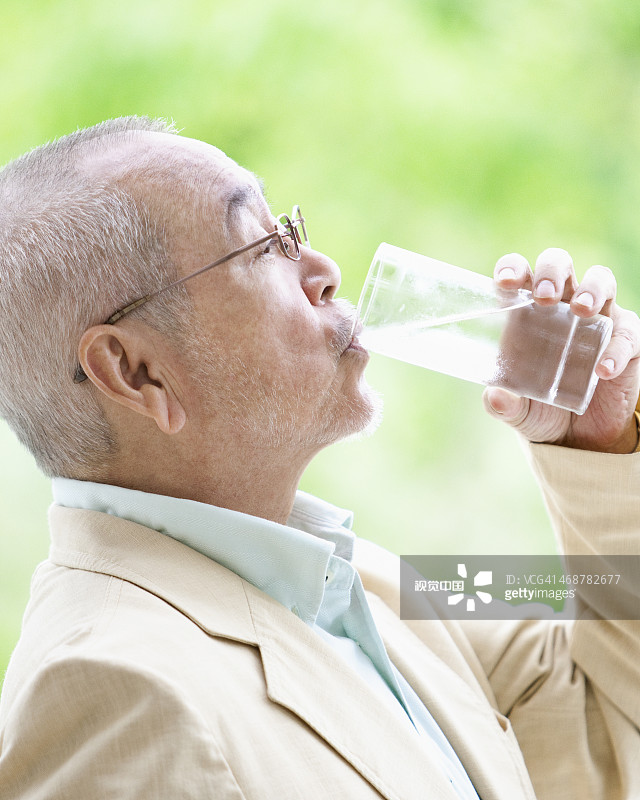no-phone: (473, 231, 640, 461)
